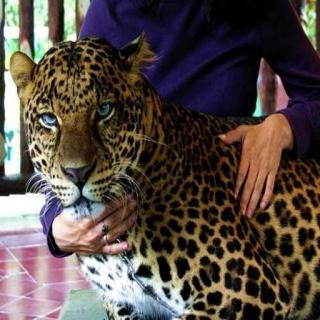Leopard: (8, 33, 320, 303)
